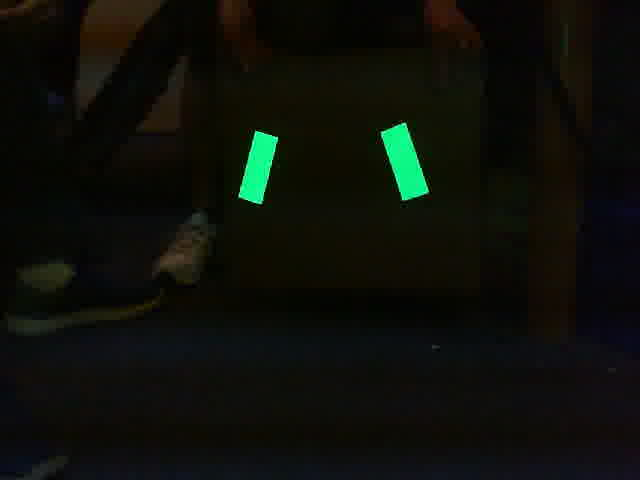target: (236, 122, 432, 205)
